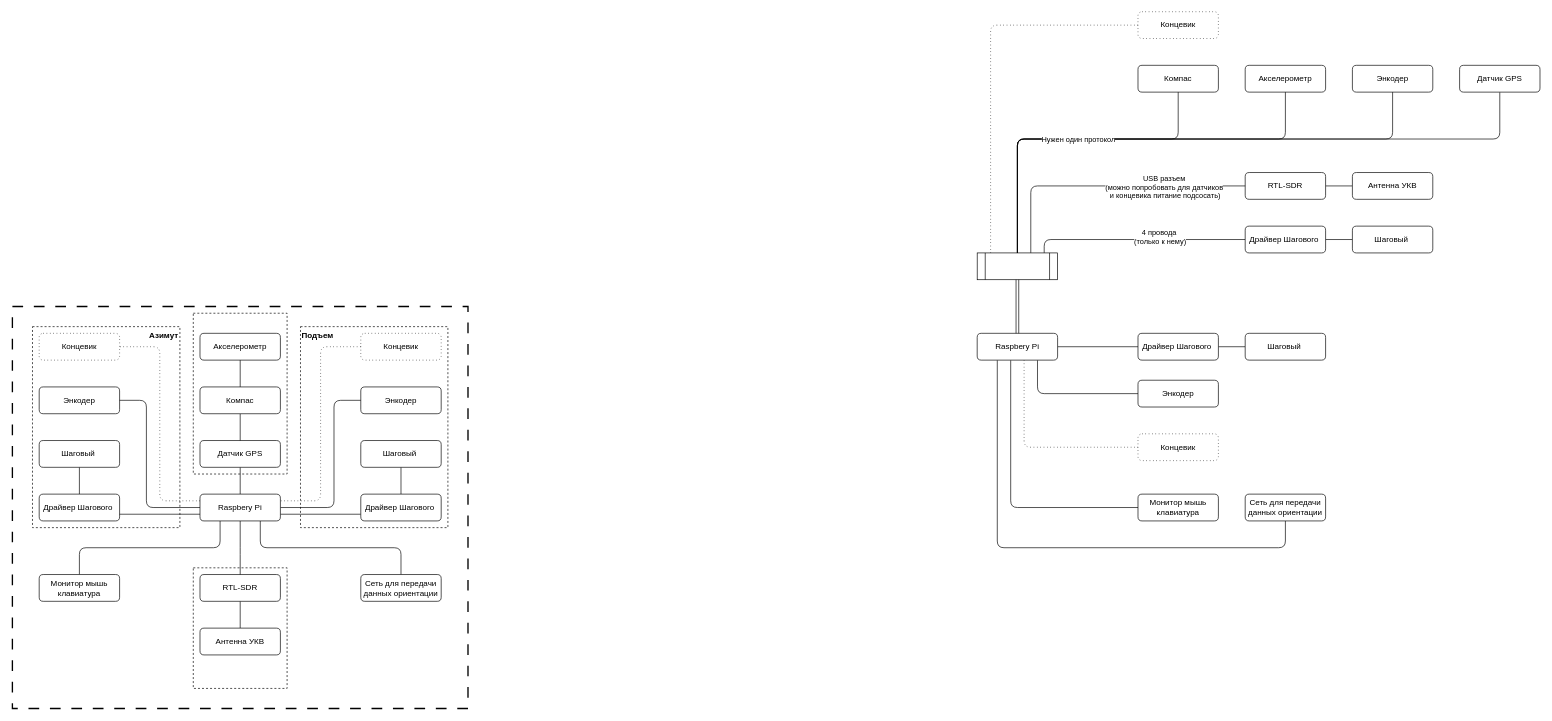
This 1552x721 diagram has some shape labels left out. Each missing label, with the box of its shape:
Обратная связь: (193, 313, 287, 474)
Прием-оцифровка: (193, 567, 287, 688)
Скользящий контакт (12 проводов 2А): (977, 252, 1058, 280)
СНАПС: (11, 306, 468, 709)
